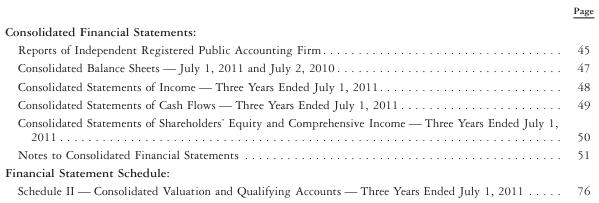table: (4, 4, 593, 197)
table column: (4, 4, 564, 197), (564, 4, 593, 197)
table column header: (4, 4, 593, 20)
table projected row header: (4, 20, 593, 40), (4, 163, 593, 181)
table row: (4, 112, 593, 145), (4, 20, 593, 40), (4, 40, 593, 58), (4, 58, 593, 76), (4, 76, 593, 94), (4, 94, 593, 112), (4, 145, 593, 163), (4, 163, 593, 181), (4, 4, 593, 20), (4, 181, 593, 197)
